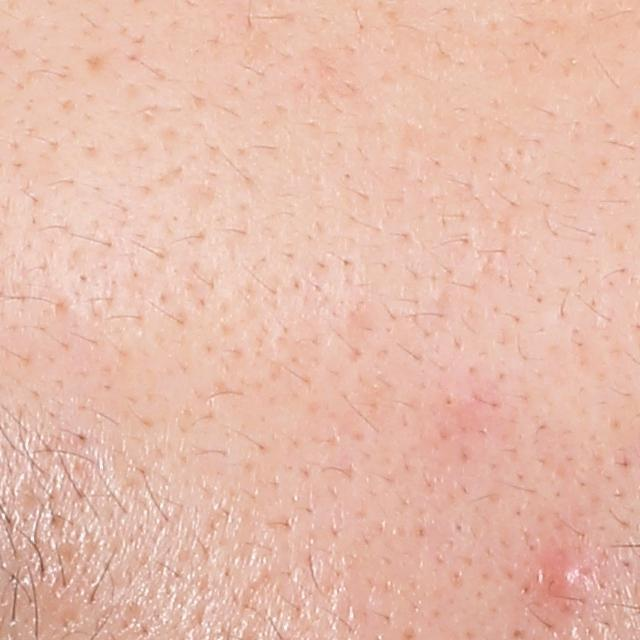comedo: (438, 389, 461, 410)
papule: (532, 546, 595, 610)
